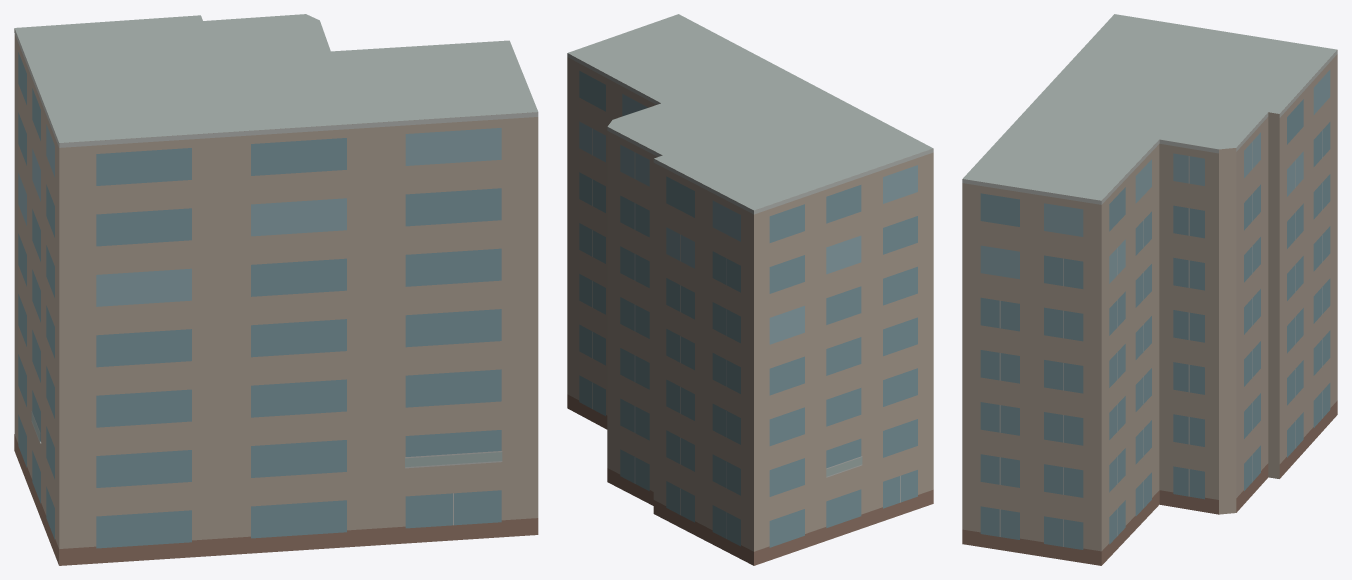
File: survey-upis-32683218.glb
3 renders of one model, left to right at view 1: azimuth 30°, elevation 25°; view 2: azimuth 150°, elevation 25°; view 3: azimuth 270°, elevation 25°, orthographic. The views are drawn at different scales.
Parts seen in each view (by area): view 1: survey-upis-32683218.tmp; view 2: survey-upis-32683218.tmp; view 3: survey-upis-32683218.tmp.
Part boxes in pixels (box(x1,y1,x2,y2)): survey-upis-32683218.tmp: box(14, 14, 538, 565); survey-upis-32683218.tmp: box(567, 14, 933, 565); survey-upis-32683218.tmp: box(962, 14, 1337, 565).
Size of the model in its own units: 23.48 by 21.4 by 19.93.
